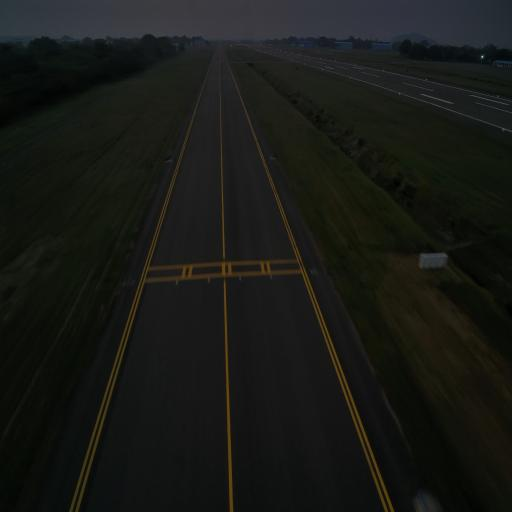off: (238, 274, 244, 284), (174, 279, 180, 287), (269, 272, 274, 279), (207, 277, 211, 284)
on: (416, 487, 429, 512), (168, 156, 172, 162), (270, 154, 272, 159)
